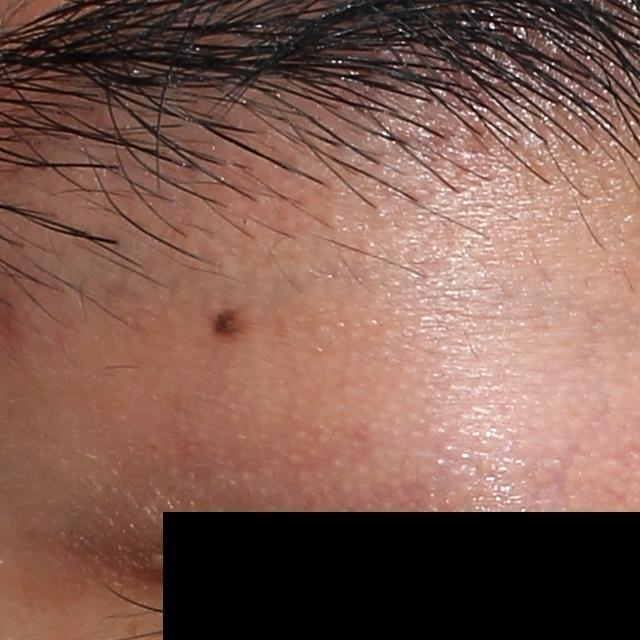nevus: (212, 306, 250, 337)
